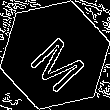M_NE: (21, 21, 89, 89)
